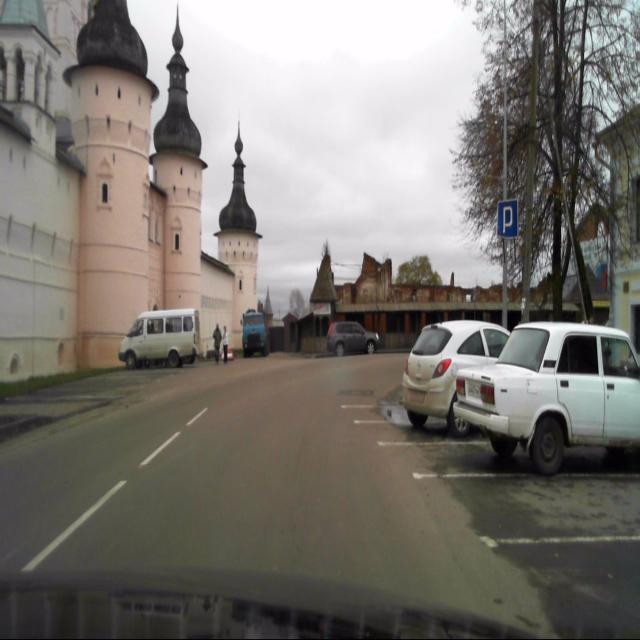road sign: (498, 199, 518, 238)
